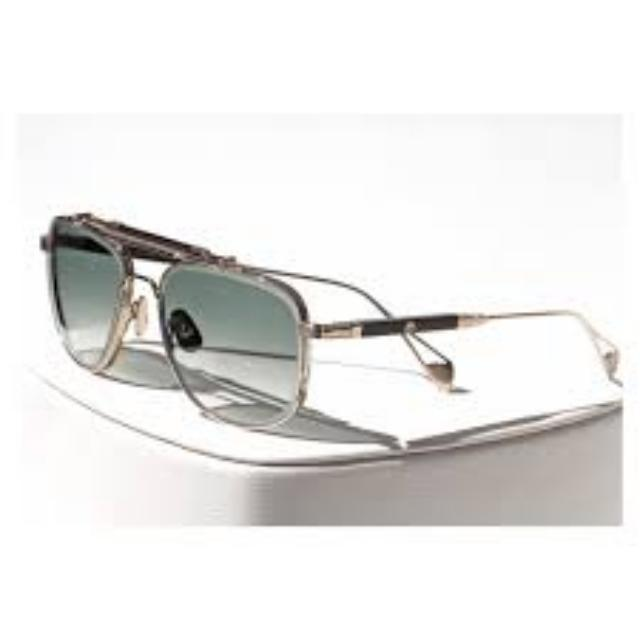sunglasses: (26, 203, 640, 429)
